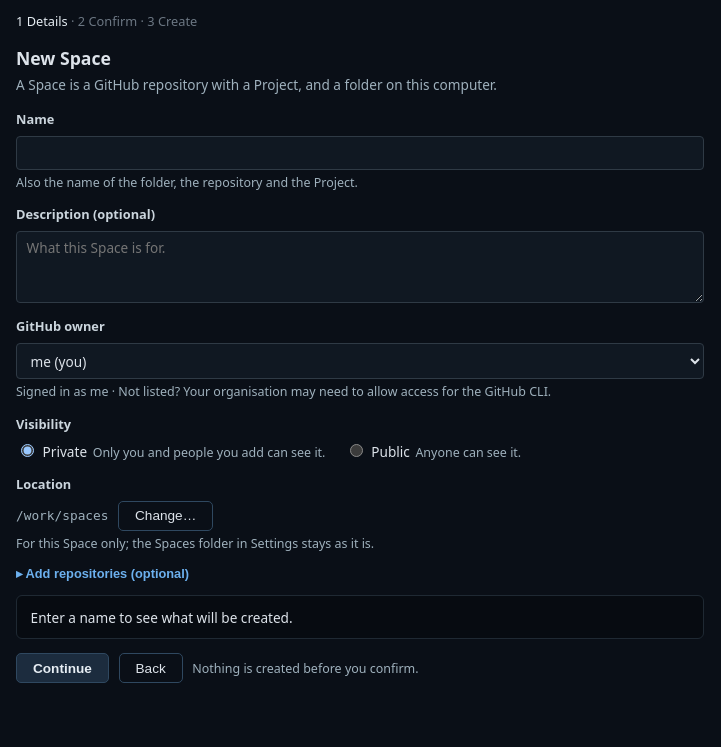
no on-screen text names an internal field
This screenshot has width=721, height=747.
Type "x" into the field with test id "setup-field-name" at (360, 153), box [16,136,704,170]
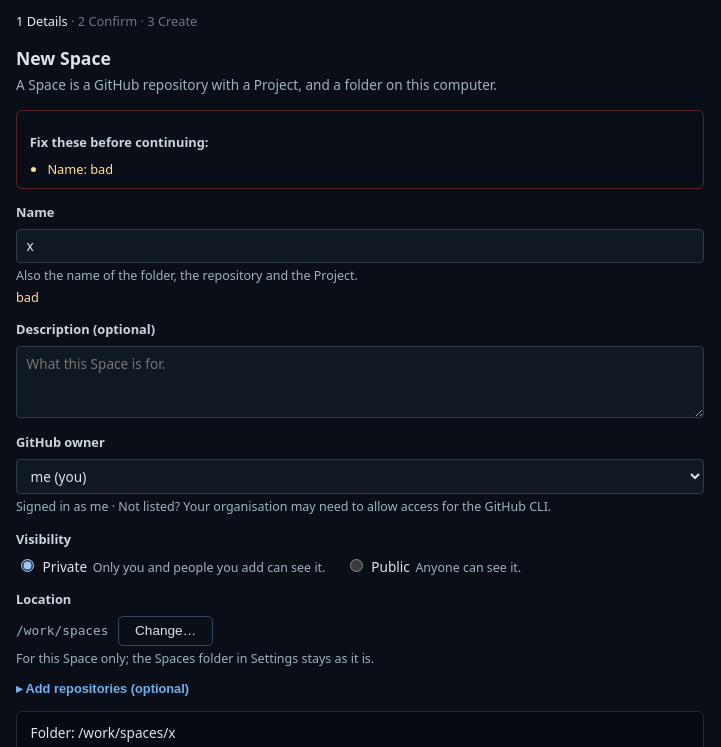
Expected: the text "bad" is shown, [16,288,39,306]
